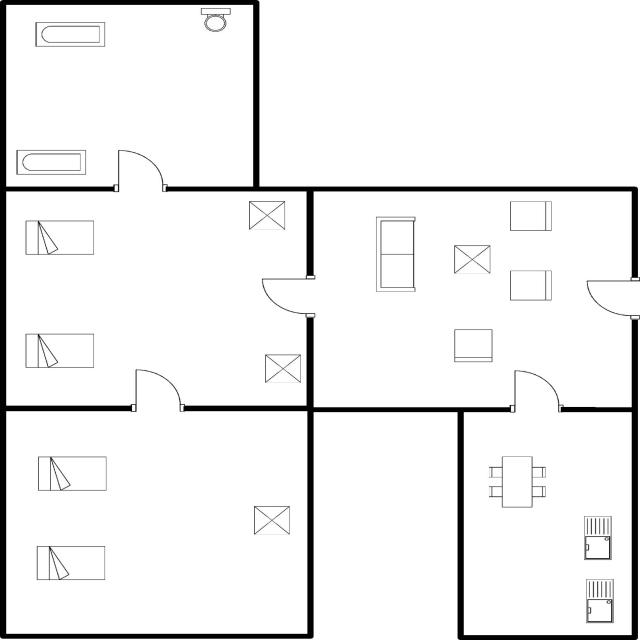bed: (28, 451, 114, 497), (21, 216, 100, 260), (18, 330, 100, 372), (32, 543, 112, 586)
coffee_table: (445, 240, 495, 278), (248, 500, 293, 538), (244, 196, 291, 232), (258, 350, 304, 384)
dining_table: (482, 453, 549, 514)
large_sink: (193, 4, 235, 35)
large_sofa: (369, 211, 421, 296)
sink: (575, 512, 618, 563), (579, 573, 620, 626)
small_sofa: (447, 326, 498, 366), (504, 268, 555, 303), (504, 199, 554, 234)
tub: (28, 17, 112, 50), (12, 146, 92, 179)
